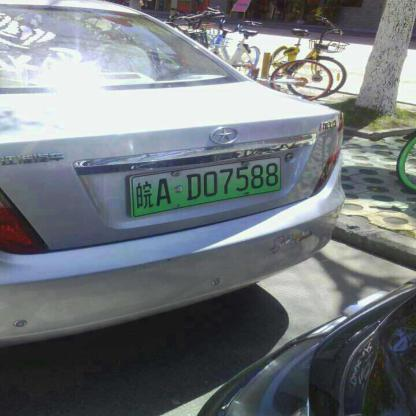lp: (131, 156, 280, 216)
